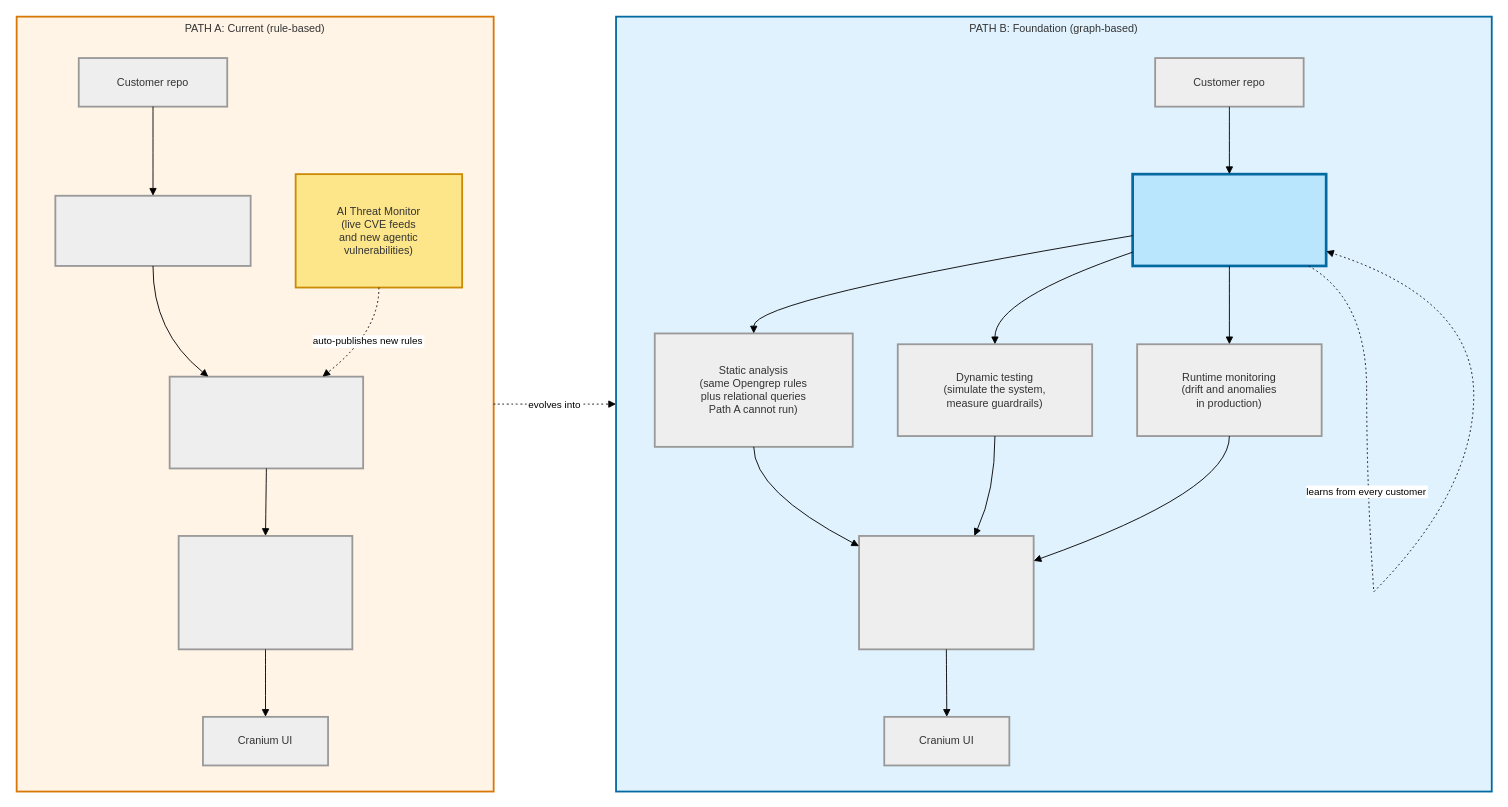
Image size: 1508x807. Some labels were removed from this diagram. The centre of each missing label's shape, as x and y in pixels:
AgentSense BOM (what's in the system): pixel 152 230
Graph representation of the agentic system (durable, queryable): pixel 1229 219
Opengrep rule engine scans agent code and prompt text: pixel 266 422
Security findings: attack surface missing safeguards prescriptive fixes: pixel 265 592
Unified findings: evidence trail before/after proof deployment gate: pixel 946 592
